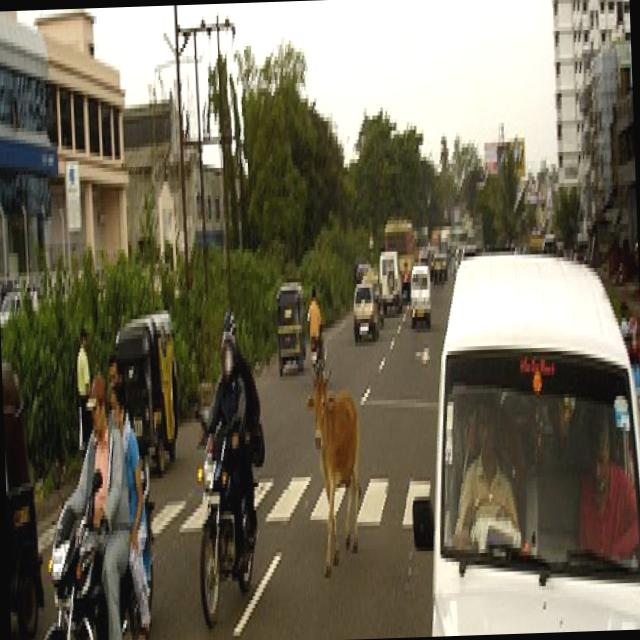Vehicle: (400, 239, 640, 637), (28, 447, 159, 640), (192, 402, 265, 624), (1, 353, 44, 640), (113, 312, 182, 476), (378, 252, 404, 318), (352, 283, 380, 343), (408, 263, 432, 331), (306, 312, 328, 385), (361, 273, 384, 328), (432, 249, 448, 286)
